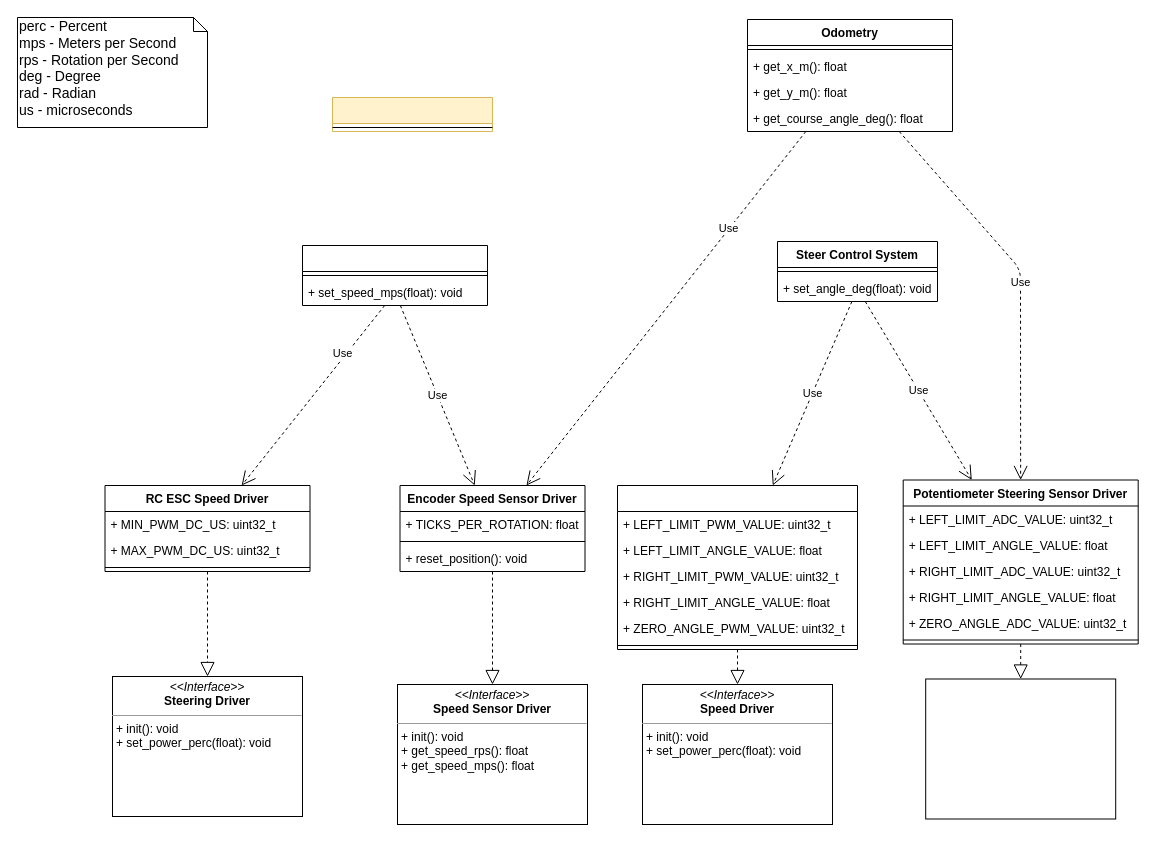
Image size: 1156x842. Some labels were removed from this diagram. Each missing label, with the box of its shape:
<<Interface>> Steering Sensor Driver + init(): void + get_angle_deg(): float: (925, 678, 1116, 819)
Brake Controller: (332, 96, 492, 132)
Servo Steering Driver: (616, 484, 858, 650)
Speed Control System: (302, 244, 488, 306)
